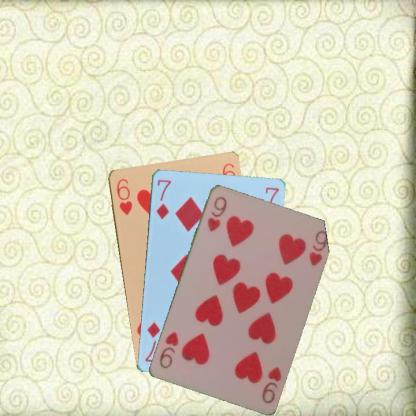6h: (113, 176, 134, 216)
7d: (153, 176, 172, 219)
9h: (205, 193, 228, 233), (259, 364, 282, 404)
